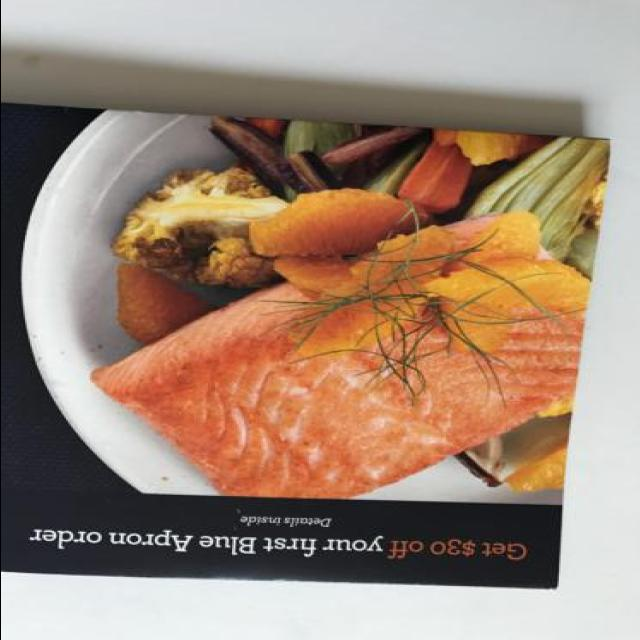kertas: (0, 98, 610, 594)
